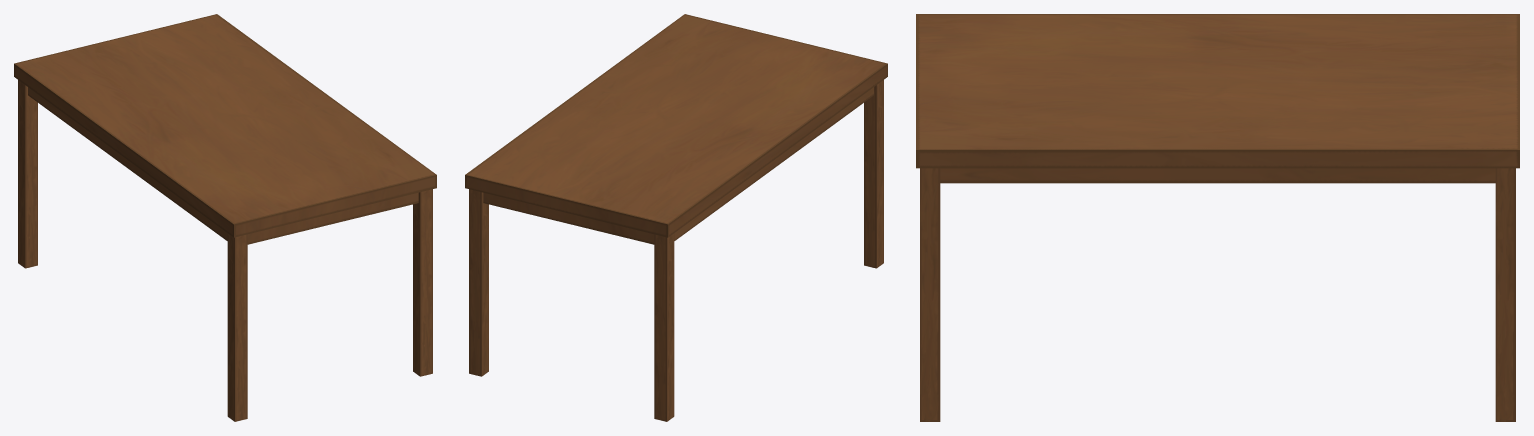
The model's file is Meja_Makan.fbx.
3 views of the same model, side by side, from view 1: azimuth 30°, elevation 25°; view 2: azimuth 150°, elevation 25°; view 3: azimuth 270°, elevation 25° (orthographic). The views are drawn at different scales.
Parts seen in each view (by area): view 1: Cube.008; view 2: Cube.008; view 3: Cube.008.
Part boxes in pixels (x1,y1,x2,y2): Cube.008: [14, 14, 436, 421]; Cube.008: [465, 14, 887, 421]; Cube.008: [916, 14, 1519, 421].
Bounding box in the file's own units: 80 × 75 × 150.
Materials: 2 (2 with a texture image).
